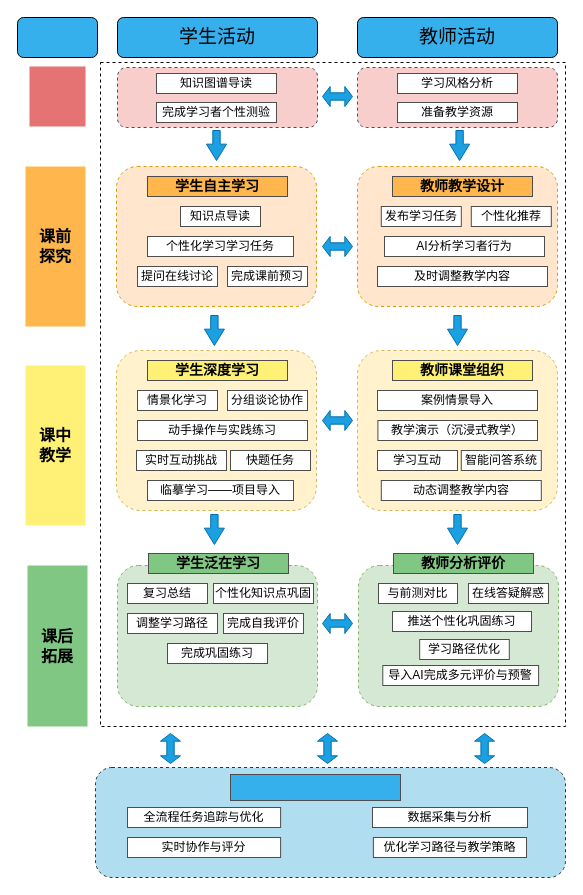
This 583x895 diagram has some shape labels left out. The shapes that lost their labels are listed below. From the top down, each one's box as (x1, y1, x2, y2) in pixels, then its label:
(16, 16, 98, 58): 教学环节
(29, 66, 85, 126): 学前 准备
(230, 774, 400, 800): 智慧教学平台
